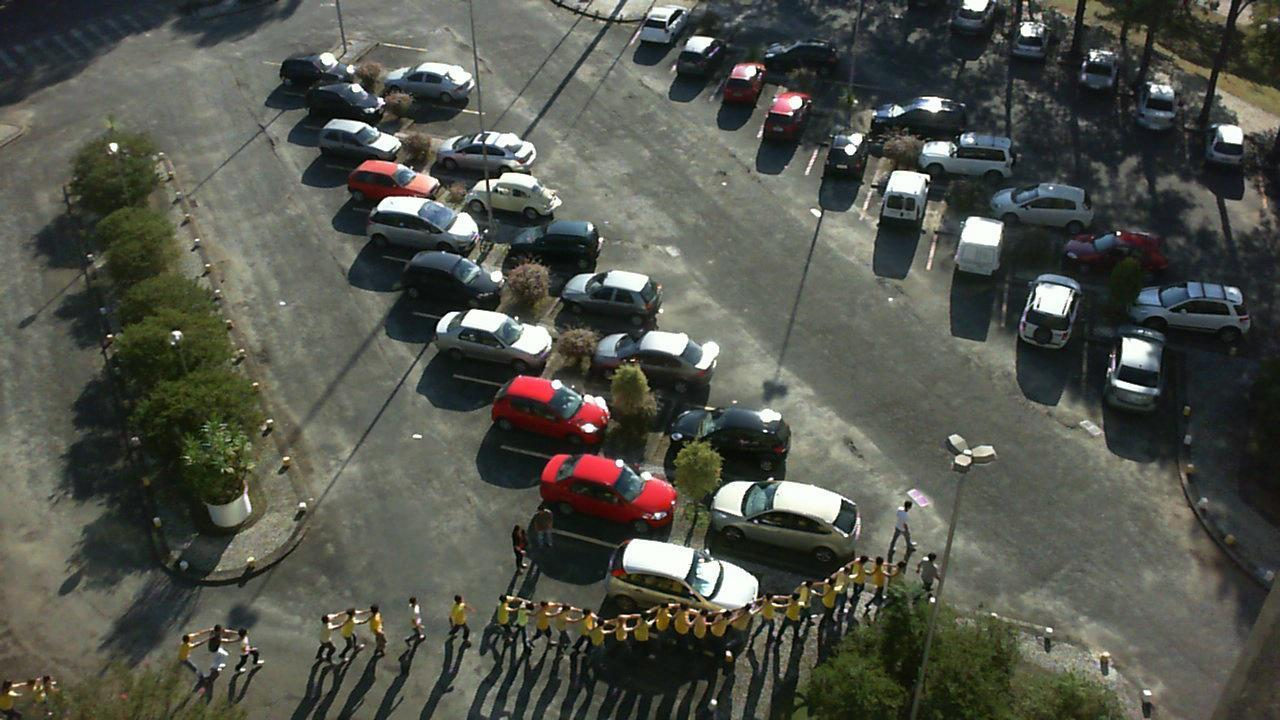empty: (404, 88, 515, 143), (819, 68, 916, 116), (349, 35, 438, 76), (732, 12, 821, 53)
occupied: (608, 526, 775, 654), (542, 439, 695, 539), (634, 397, 776, 485), (730, 478, 865, 570), (491, 366, 626, 456), (446, 304, 573, 386), (603, 324, 724, 402), (543, 264, 673, 334), (1139, 292, 1260, 362), (1083, 341, 1181, 421), (508, 216, 630, 277), (408, 252, 524, 316), (384, 198, 497, 263), (1065, 231, 1169, 296), (473, 167, 589, 225), (935, 223, 1013, 307), (1005, 271, 1085, 351), (992, 185, 1105, 240), (343, 156, 450, 211), (863, 183, 946, 253), (801, 137, 884, 205), (316, 113, 413, 169), (927, 140, 1028, 191), (629, 10, 703, 77), (760, 104, 832, 172), (445, 132, 544, 181), (670, 45, 745, 106), (709, 71, 784, 130), (301, 84, 393, 130), (1123, 84, 1182, 153), (867, 105, 955, 150), (278, 51, 364, 97), (383, 65, 472, 105), (1002, 19, 1066, 74), (1057, 56, 1118, 113), (778, 43, 857, 84)
